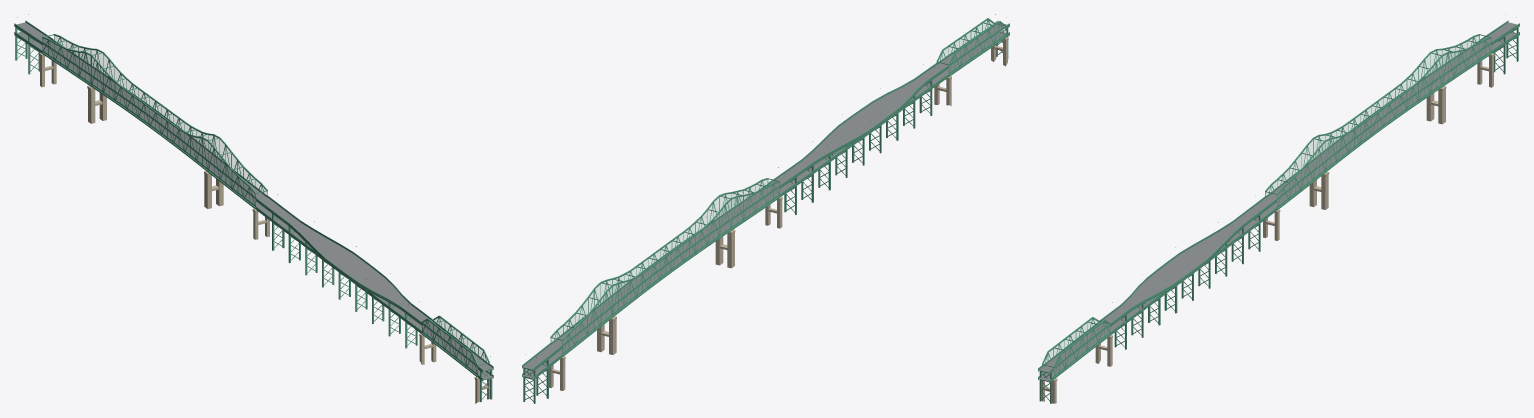
The model's file is bos-tobin-bridge.glb.
3 views of the same model, side by side, from view 1: azimuth 30°, elevation 25°; view 2: azimuth 150°, elevation 25°; view 3: azimuth 330°, elevation 25° (orthographic).
Parts seen in each view (by area): view 1: Maurice J. Tobin Memorial Bridge; view 2: Maurice J. Tobin Memorial Bridge; view 3: Maurice J. Tobin Memorial Bridge.
Part boxes in pixels (x1,y1,x2,y2): Maurice J. Tobin Memorial Bridge: (14, 14, 493, 403); Maurice J. Tobin Memorial Bridge: (522, 14, 1009, 403); Maurice J. Tobin Memorial Bridge: (1038, 14, 1519, 403).
Bounding box in the file's own units: 33.88 × 77.42 × 976.
